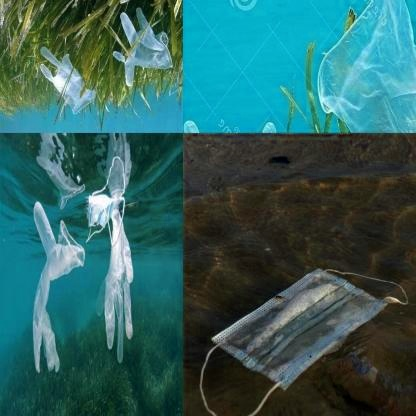Mask: (199, 268, 416, 416), (87, 191, 124, 254)
glove: (310, 0, 415, 132), (29, 192, 86, 378), (111, 6, 177, 95), (96, 231, 134, 364), (37, 43, 98, 115)
